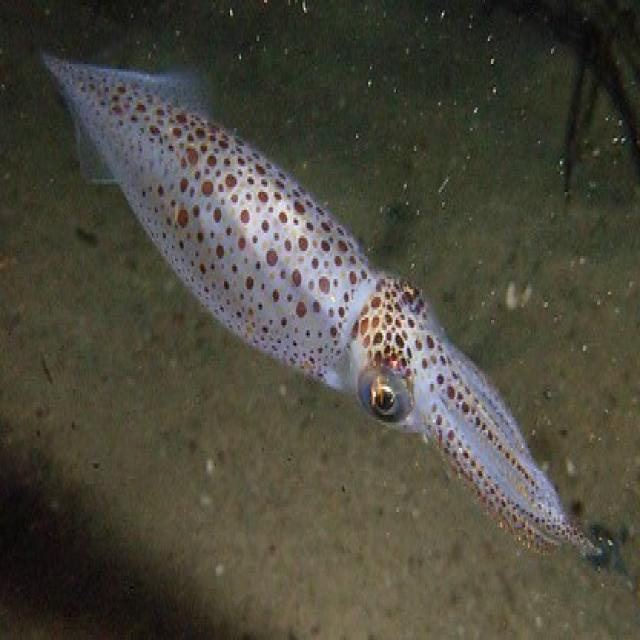SQUID: (28, 42, 610, 579)
